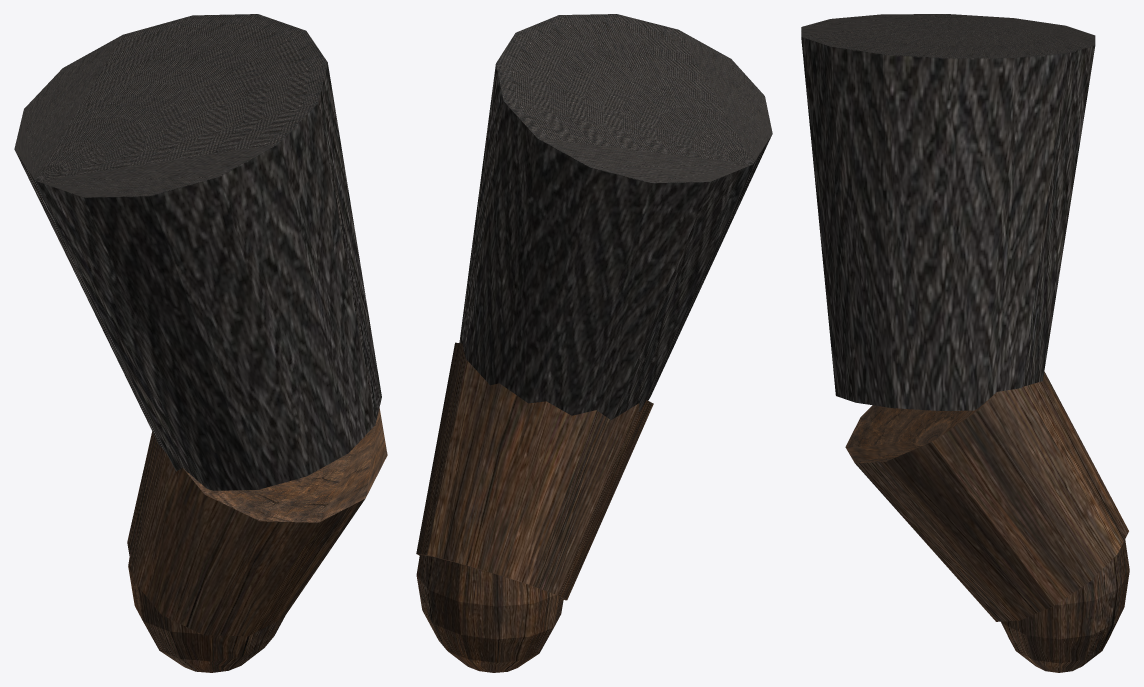
Rendered from sleeve_1.obj.
The picture shows the model from 3 angles, left to right: view 1: azimuth 30°, elevation 25°; view 2: azimuth 150°, elevation 25°; view 3: azimuth 270°, elevation 25°; orthographic projection. The views are drawn at different scales.
Size of the model in its own units: 0.3389 by 0.6517 by 0.3114.
Materials: 2 (2 with a texture image).
